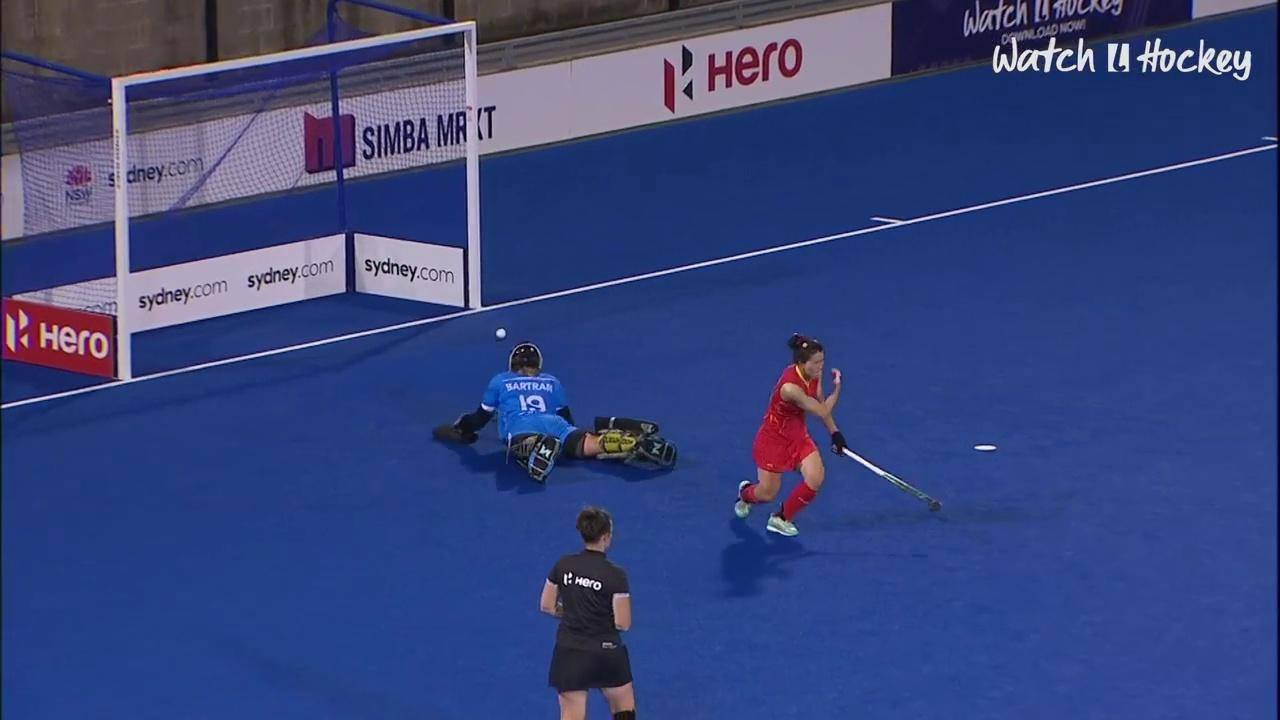ball: (490, 321, 520, 348)
